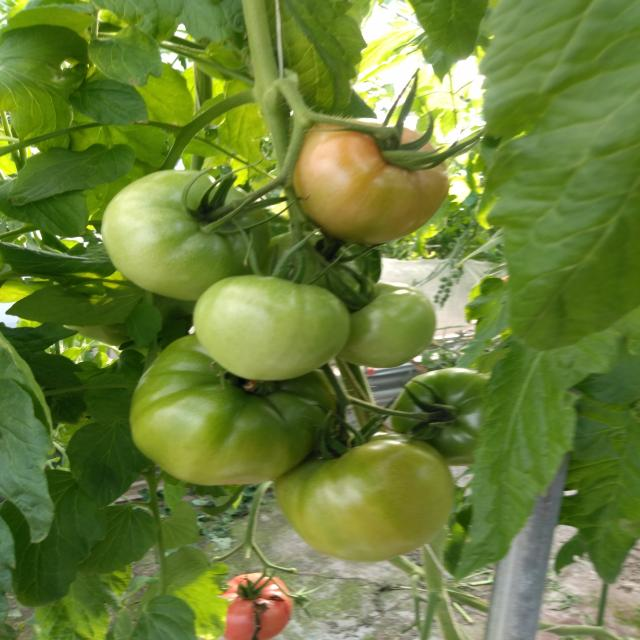yesil: (72, 182, 357, 606)
